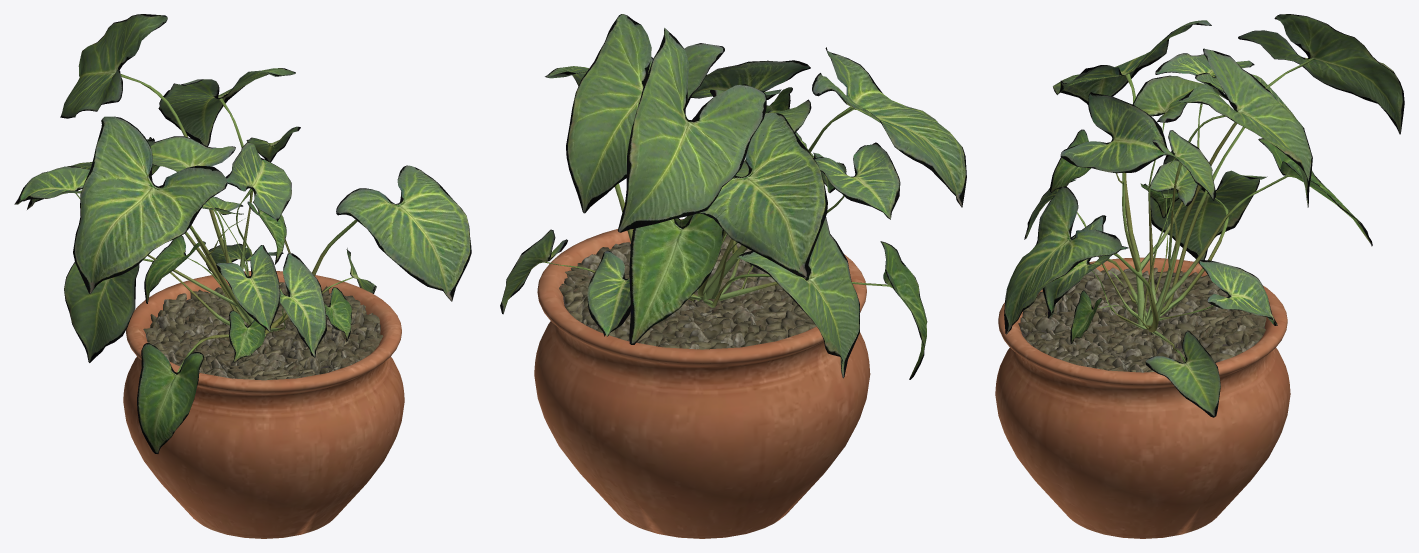
File: potted_plant_02.glb
The picture shows the model from 3 angles, left to right: view 1: azimuth 30°, elevation 25°; view 2: azimuth 150°, elevation 25°; view 3: azimuth 270°, elevation 25°; orthographic projection. The views are drawn at different scales.
Visible parts, largest first — view 1: potted_plant_02_leaves, potted_plant_02_pot; view 2: potted_plant_02_leaves, potted_plant_02_pot; view 3: potted_plant_02_pot, potted_plant_02_leaves.
Part boxes in pixels (x1,y1,x2,y2): potted_plant_02_leaves: [14, 14, 471, 453]; potted_plant_02_pot: [123, 271, 404, 538]; potted_plant_02_leaves: [500, 14, 966, 379]; potted_plant_02_pot: [534, 219, 870, 538]; potted_plant_02_pot: [995, 257, 1290, 538]; potted_plant_02_leaves: [1004, 14, 1404, 417].
Bounding box in the file's own units: 0.7009 × 0.8412 × 0.6574.
2 materials, 2 textured.
